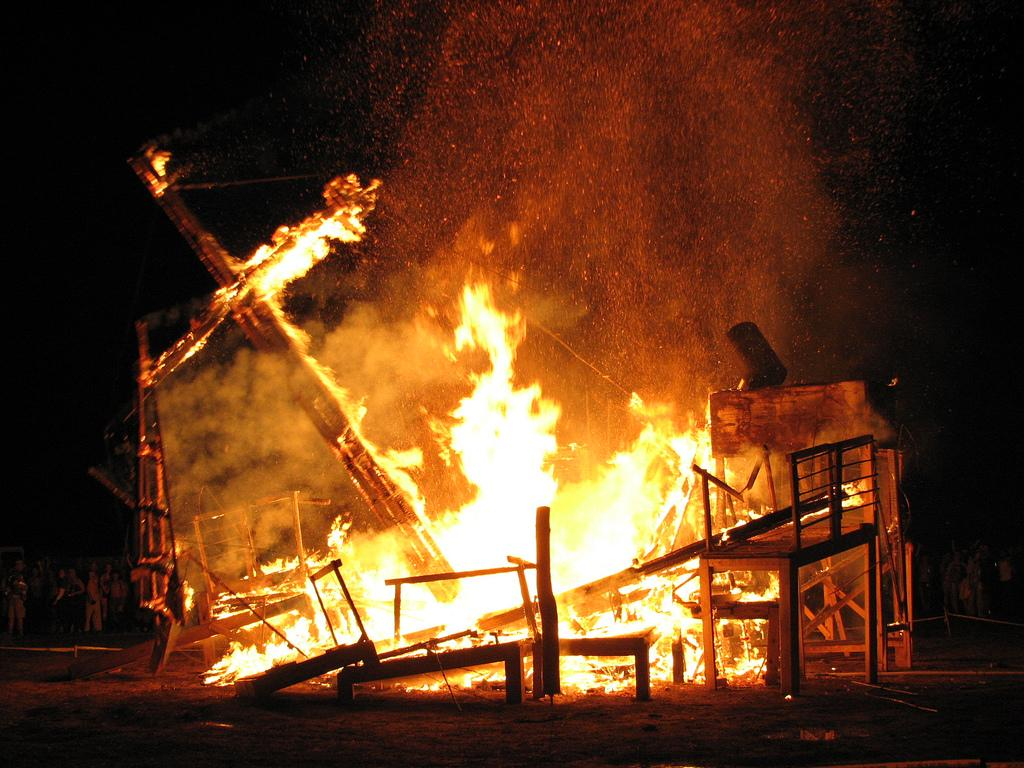fire: (438, 382, 554, 616), (570, 484, 676, 664), (298, 534, 418, 660)
